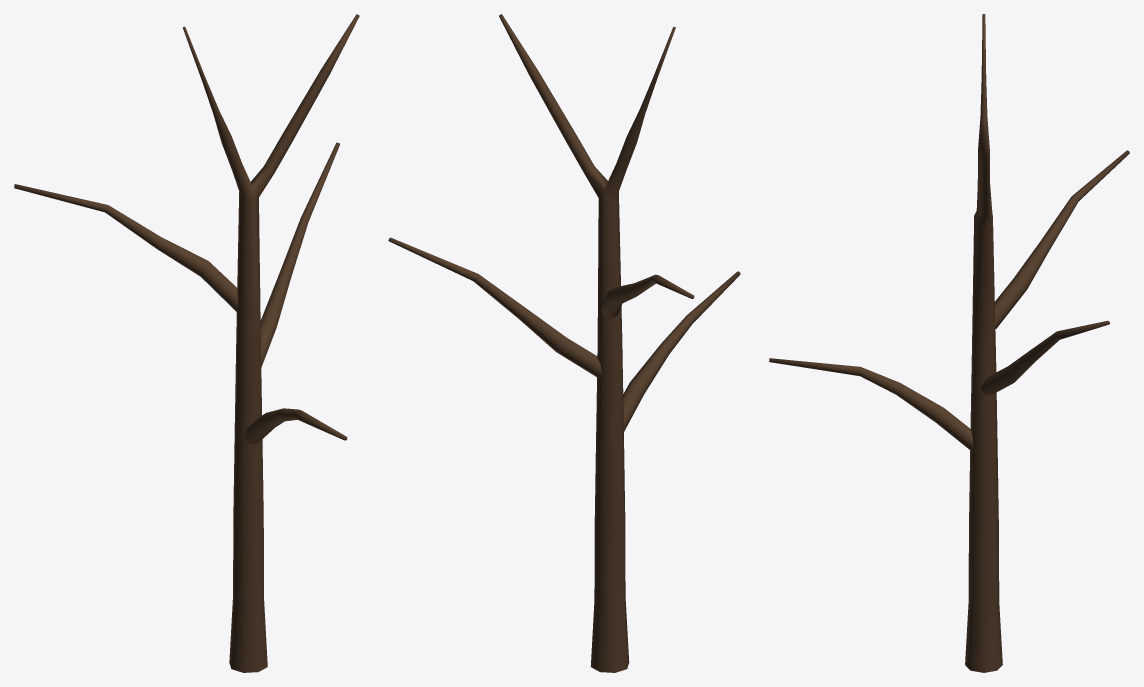
The model's file is Tree.fbx.
3 renders of one model, left to right at view 1: azimuth 30°, elevation 25°; view 2: azimuth 150°, elevation 25°; view 3: azimuth 270°, elevation 25°, orthographic. The views are drawn at different scales.
Visible parts, largest first — view 1: Cylinder; view 2: Cylinder; view 3: Cylinder.
Boxes of the visible parts, bbox=[...] form: Cylinder: bbox=[14, 14, 359, 672]; Cylinder: bbox=[388, 14, 740, 672]; Cylinder: bbox=[769, 14, 1129, 672].
Bounding box in the file's own units: 514 × 1015 × 534.
